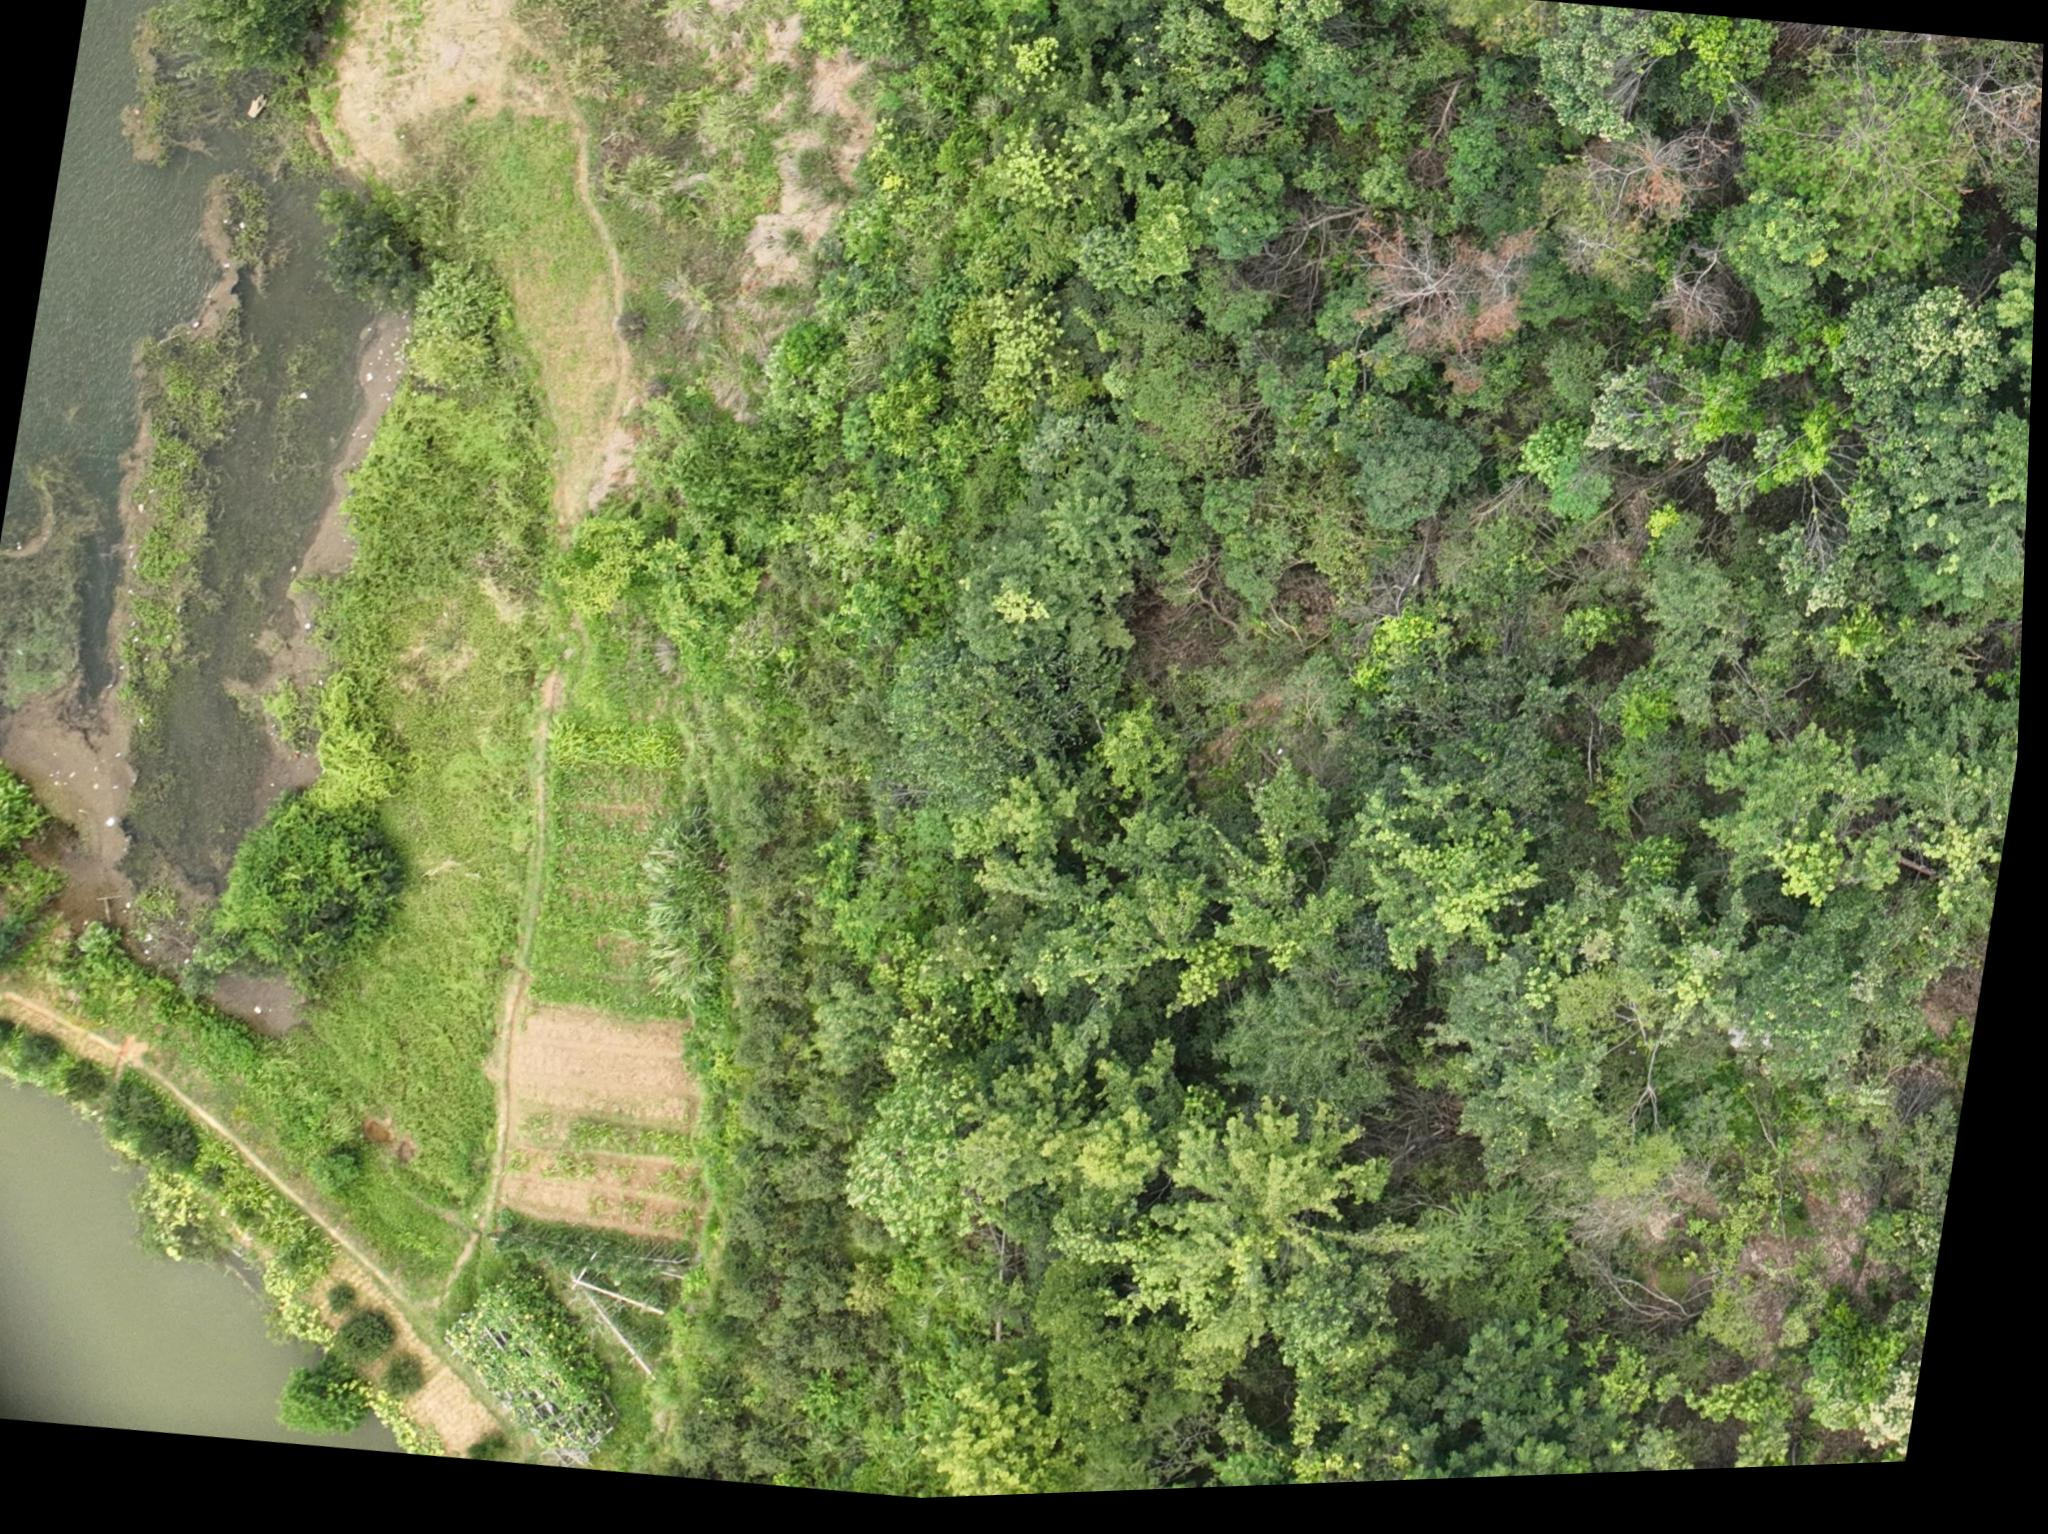dead: (1331, 227, 1548, 419), (1552, 116, 1745, 330), (1534, 1163, 1726, 1336)
